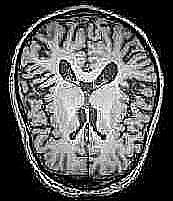Normal_Brain: (1, 3, 173, 201)
